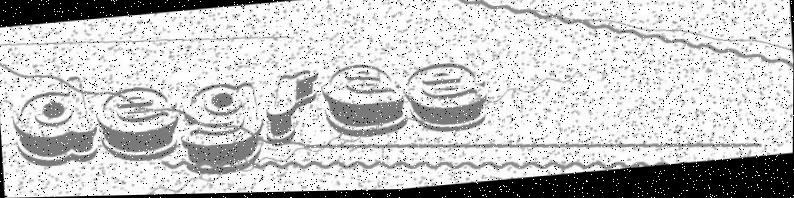d: (7, 72, 101, 168)
e: (321, 60, 410, 143), (96, 81, 181, 165), (403, 58, 491, 137)
g: (175, 77, 267, 181)
r: (263, 67, 325, 146)
